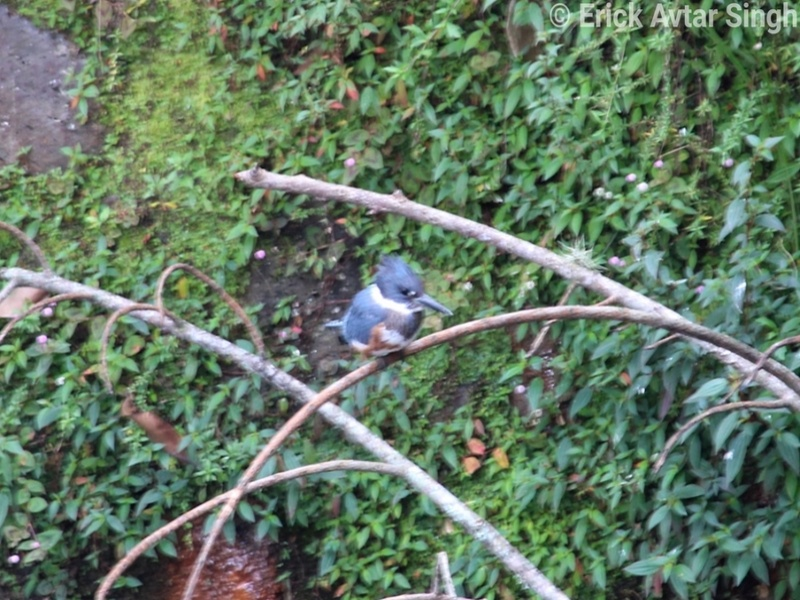kingfisher: (323, 251, 455, 361)
